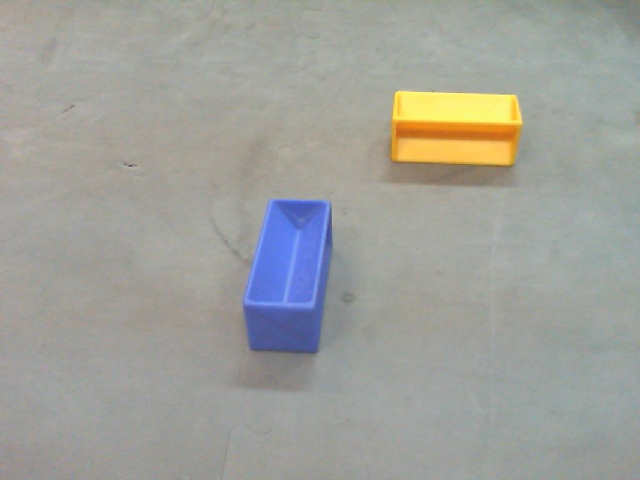BlueSample: (238, 193, 340, 359)
YellowSample: (390, 89, 523, 168)
